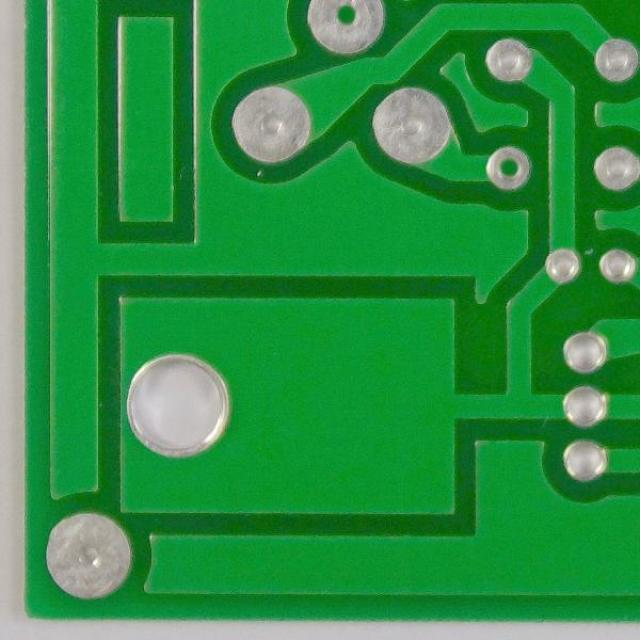Missing_Hole: (309, 0, 388, 51), (481, 140, 536, 195)
